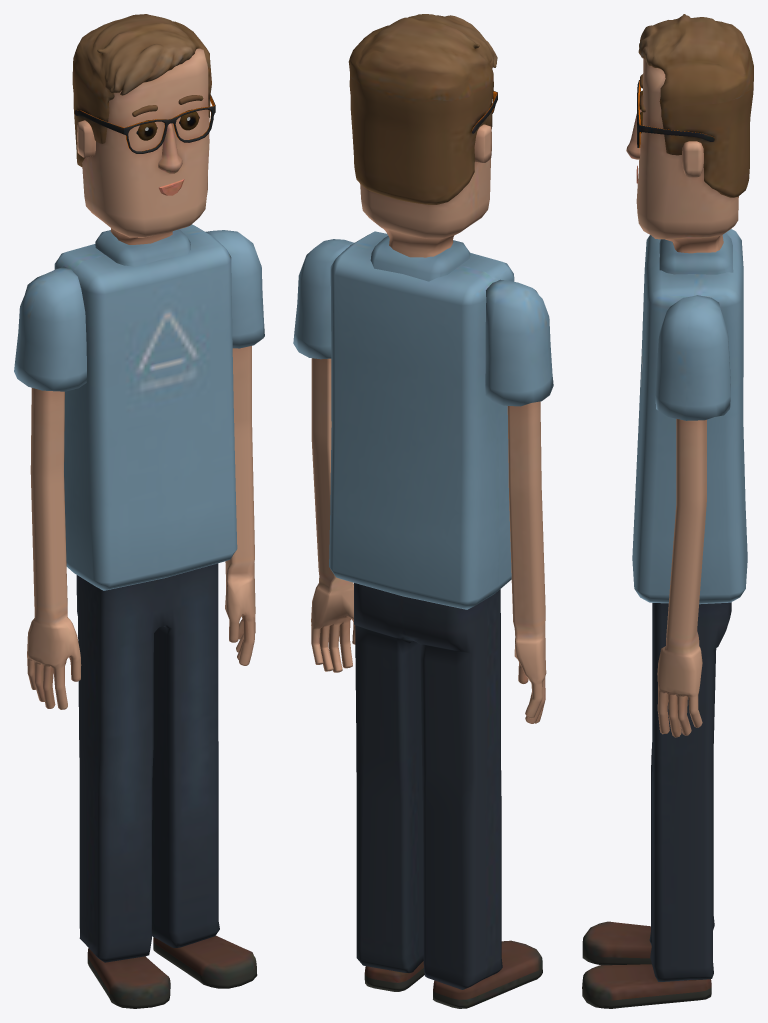
File: schmidtec.obj
3 renders of one model, left to right at view 1: azimuth 30°, elevation 25°; view 2: azimuth 150°, elevation 25°; view 3: azimuth 270°, elevation 25°, orthographic. The views are drawn at different scales.
Parts seen in each view (by area): view 1: BodyWhole_WholeArms; view 2: BodyWhole_WholeArms; view 3: BodyWhole_WholeArms.
Part boxes in pixels (x1=…): BodyWhole_WholeArms: x1=14, y1=14, x2=264, y2=1008; BodyWhole_WholeArms: x1=293, y1=14, x2=553, y2=1008; BodyWhole_WholeArms: x1=582, y1=14, x2=753, y2=1008.
Size of the model in its own units: 0.4916 by 1.85 by 0.3046.
Materials: 1 (1 with a texture image).
